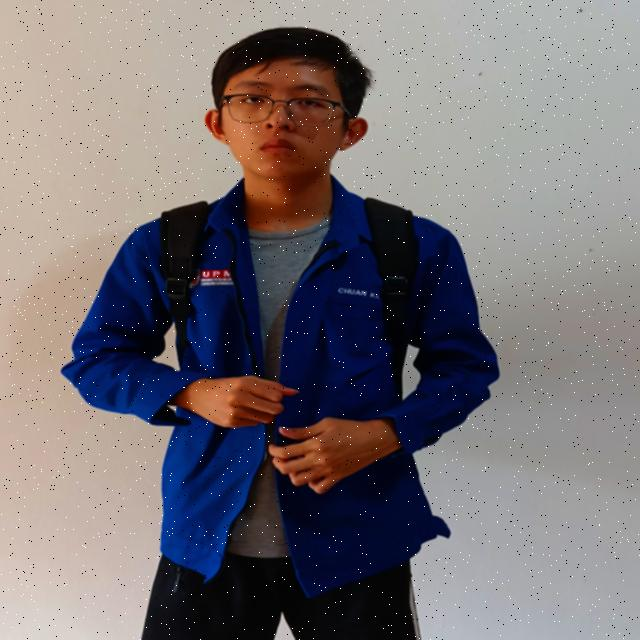person_with_labcoat: (62, 28, 499, 640)
